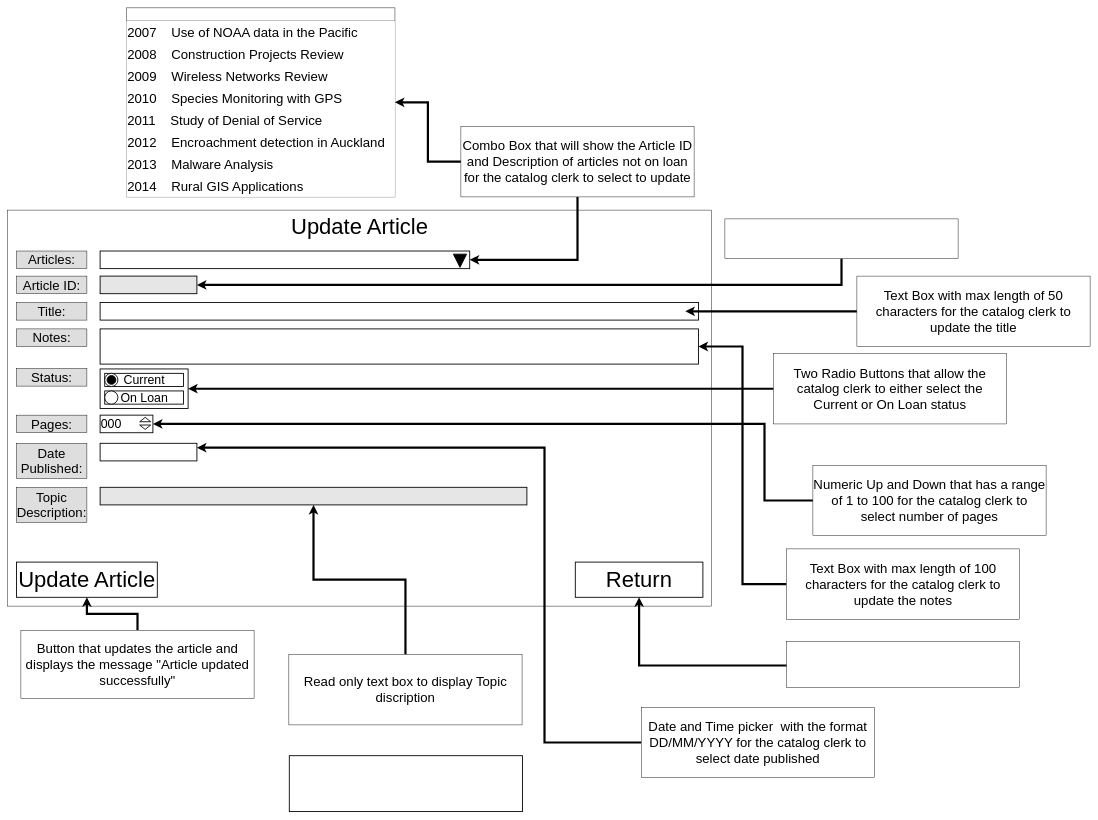
The diagram is 1098 pixels wide and 820 high, and some of its shapes have lost their labels. The shapes that lost their labels are listed below. From the top down, each one's centre as x and y in pixels, then its label:
point (841, 238): Read only Text Box for displaying Article ID
point (148, 452): DD/MM/YYYY
point (903, 664): Button that returns the user to the menu
point (406, 783): Text in black will be labels, captions, or example of format
